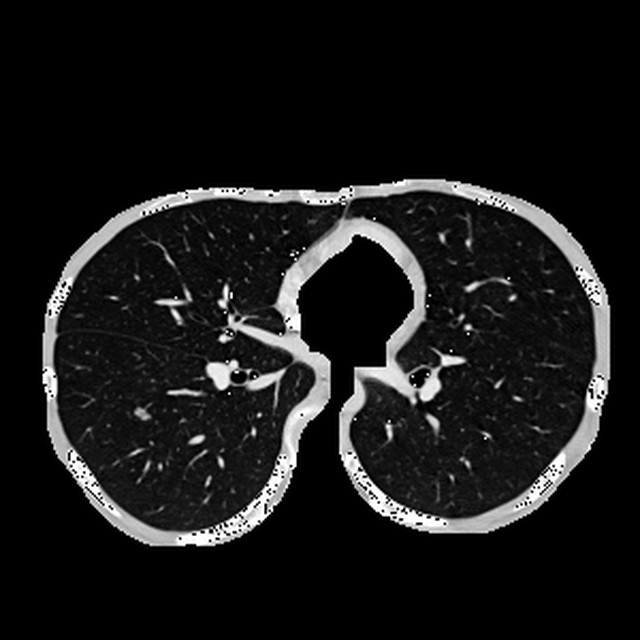PN: (137, 407, 149, 420)
